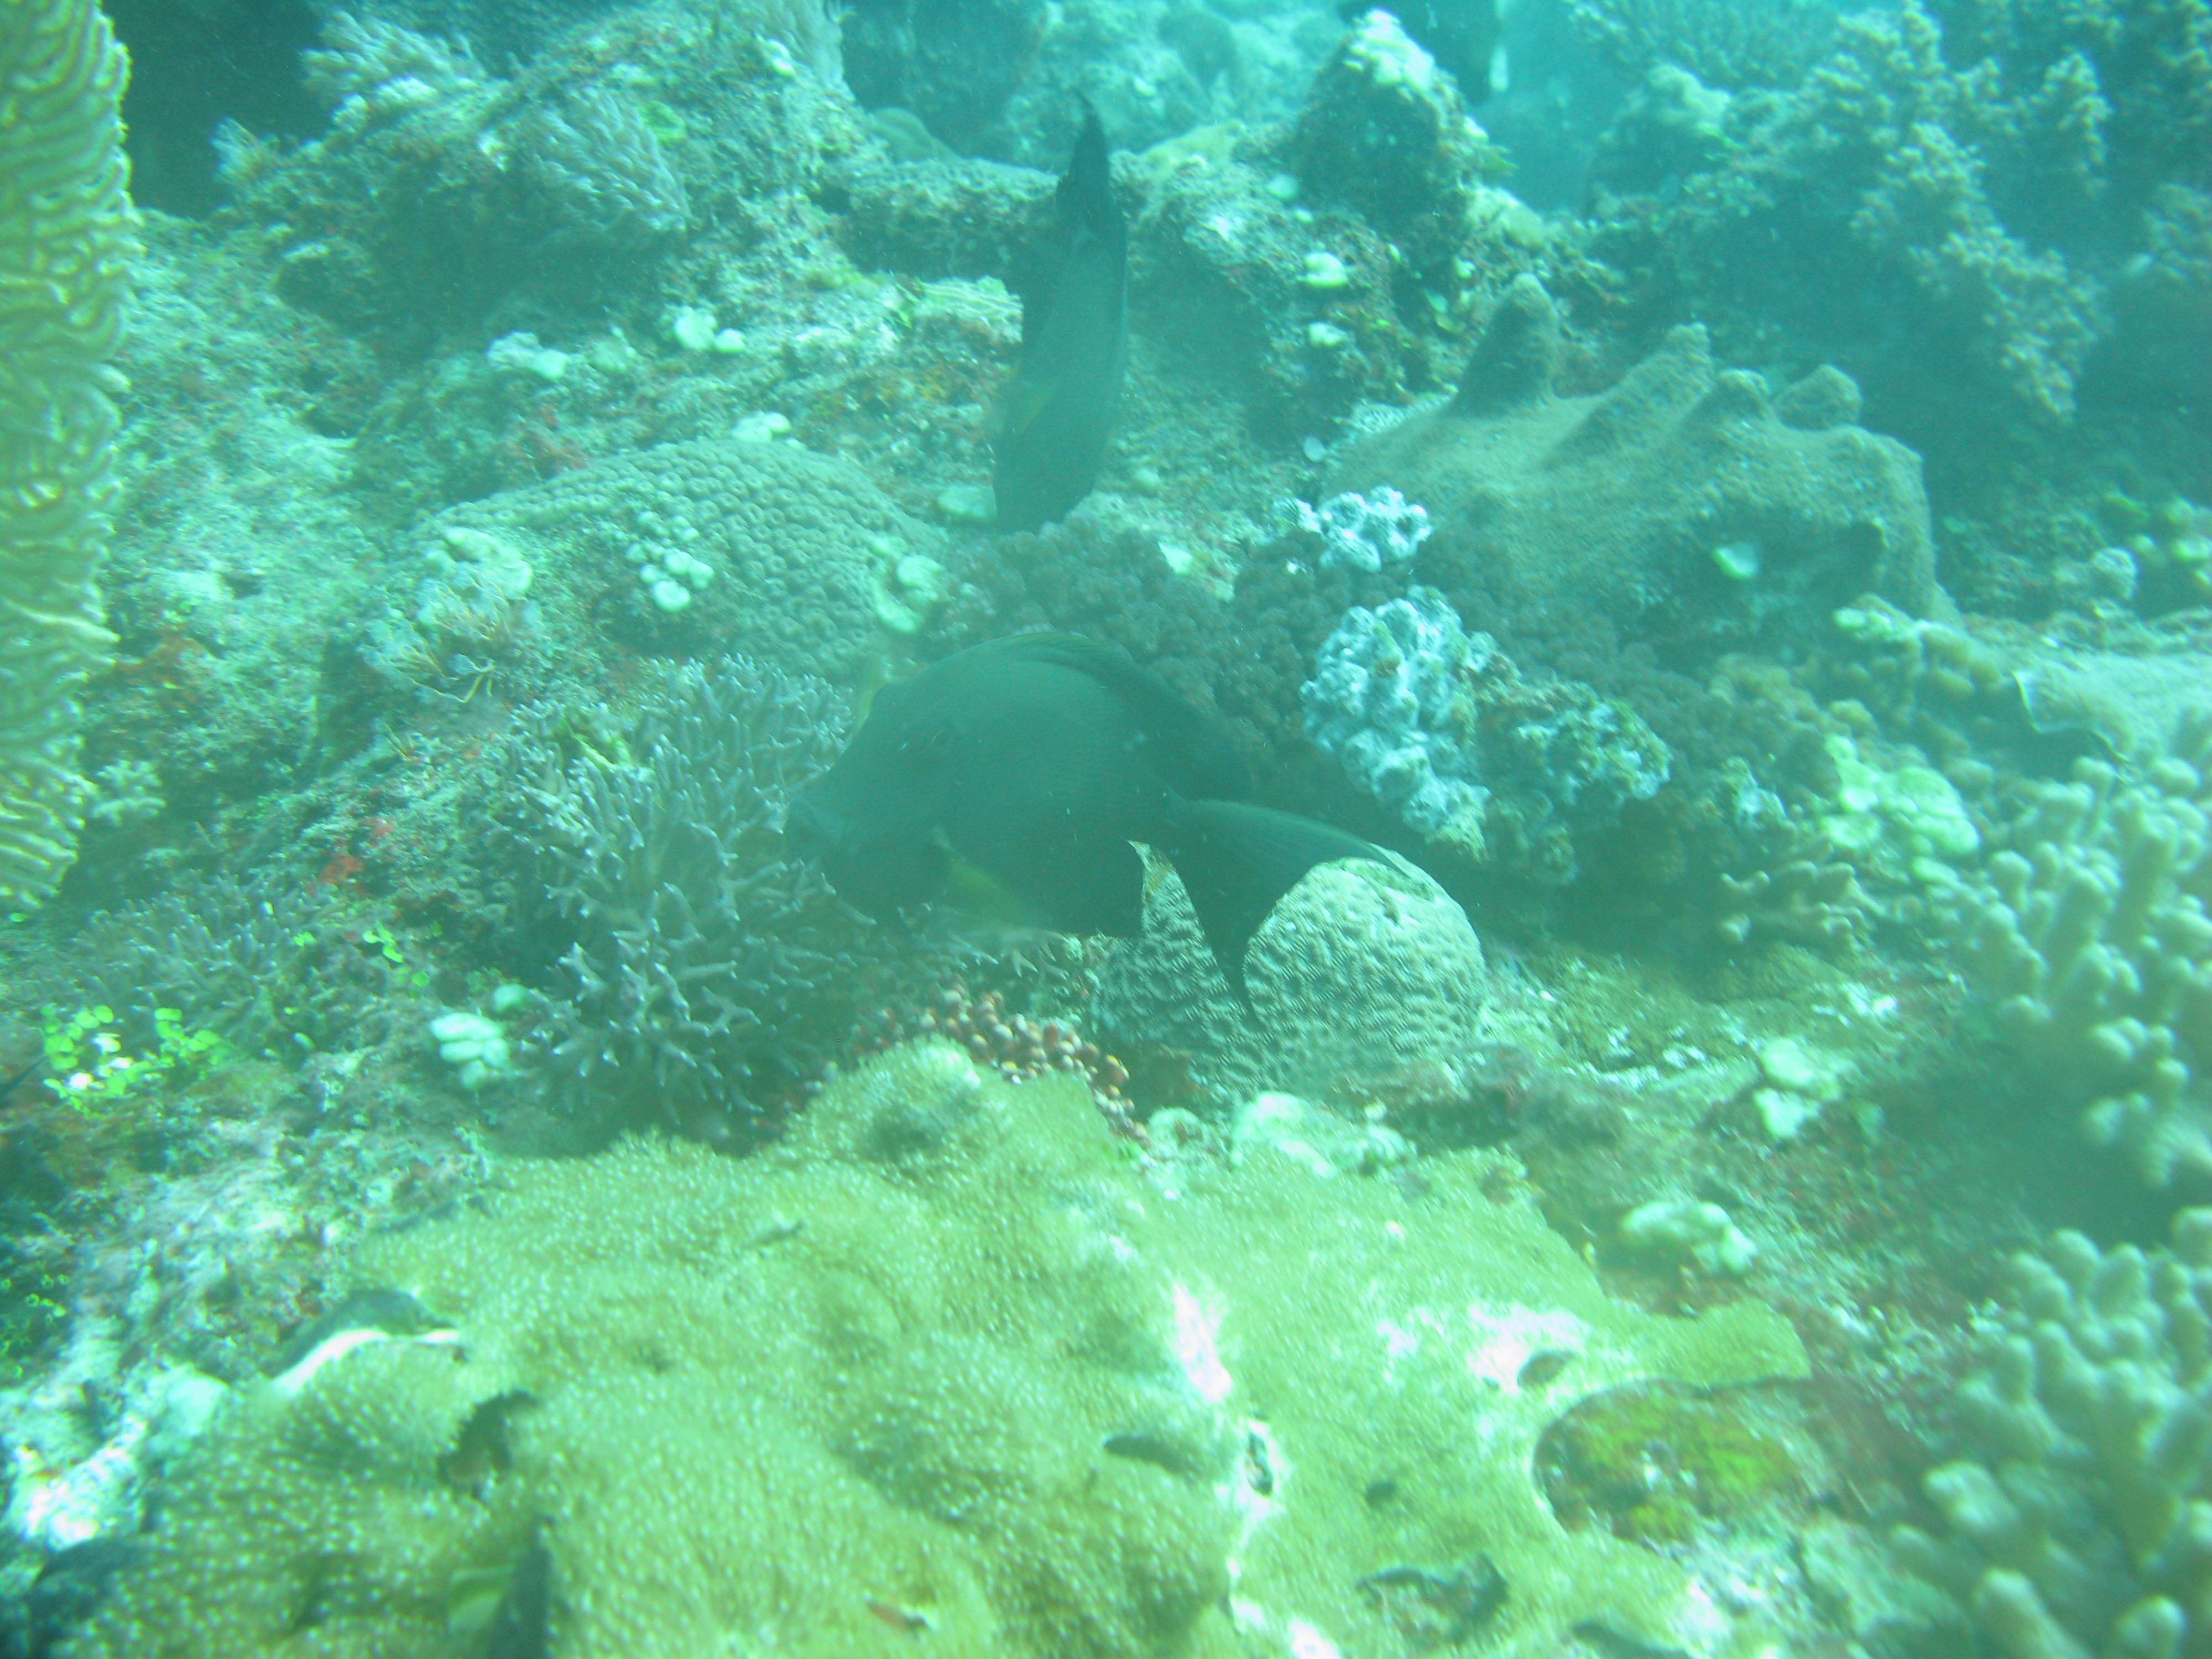Fish: (707, 645, 1432, 1028)
